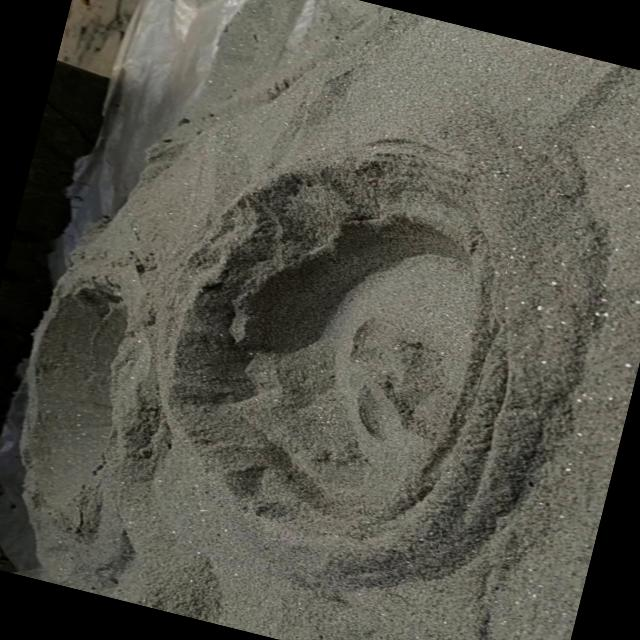C20: (173, 159, 488, 538), (33, 287, 127, 435)
